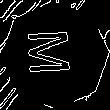M_E: (28, 30, 82, 80)
